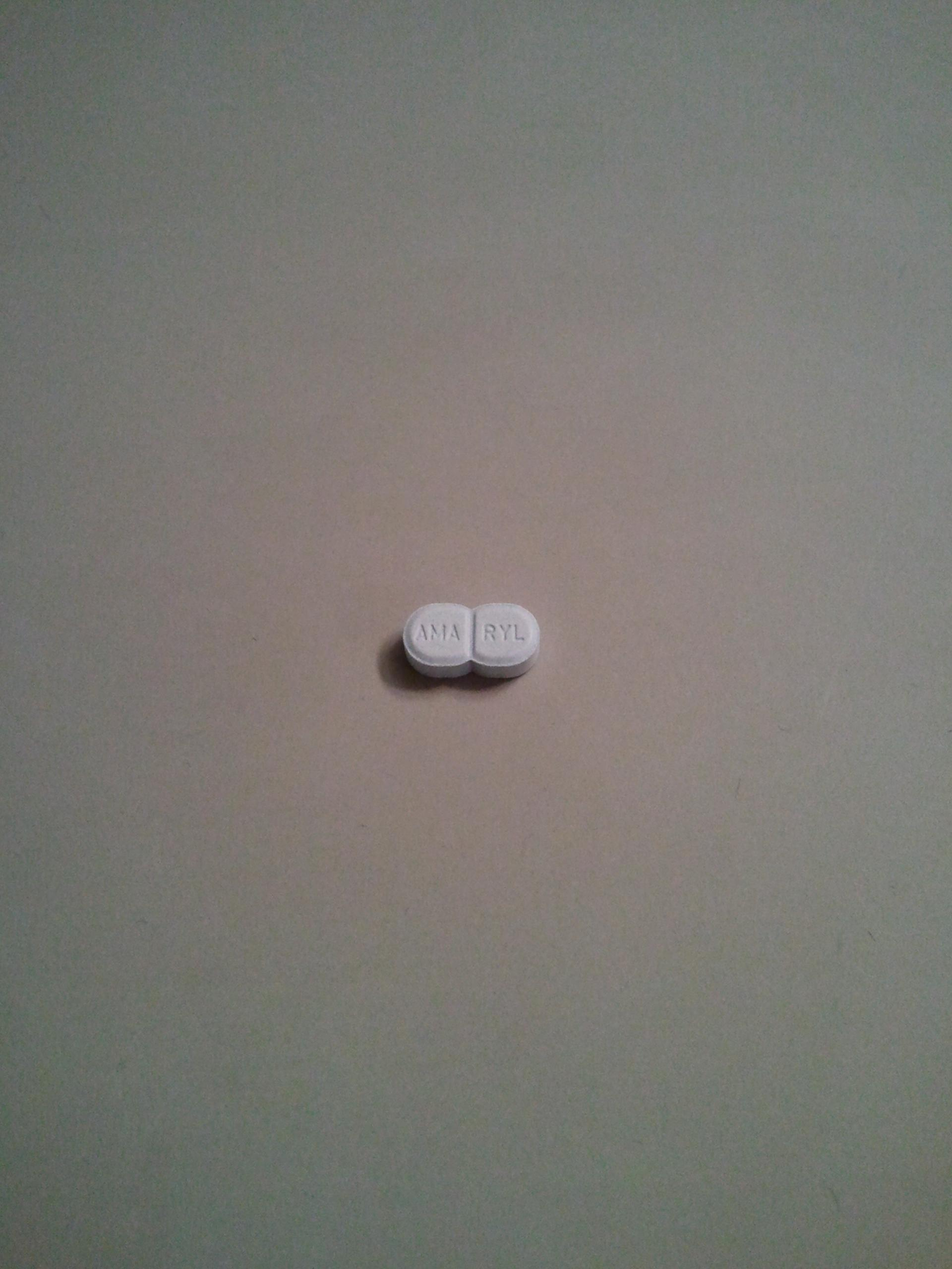Pill: (384, 592, 556, 690)
